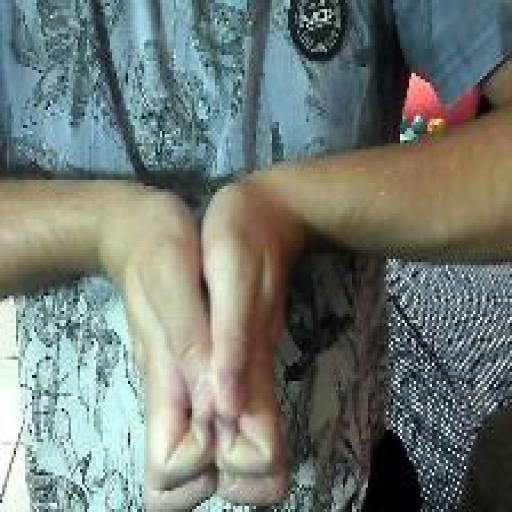I -boar-: (114, 180, 297, 512)
